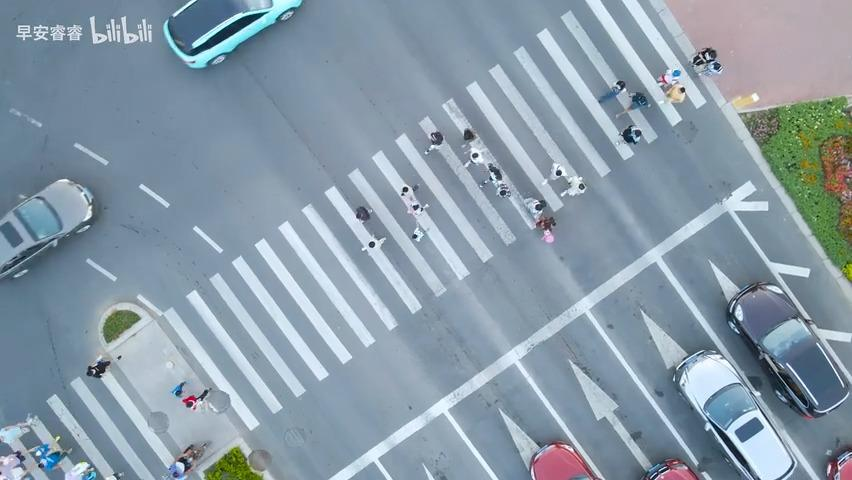Civilian: (29, 442, 72, 471), (0, 413, 35, 444), (615, 91, 651, 118), (177, 441, 207, 471), (167, 451, 196, 479), (0, 450, 26, 479), (540, 162, 571, 186), (181, 387, 210, 411), (597, 79, 625, 103), (478, 162, 503, 188), (559, 175, 587, 197), (690, 46, 716, 69), (535, 214, 556, 242), (64, 461, 96, 479), (175, 448, 197, 472), (86, 356, 110, 377), (655, 68, 681, 87), (618, 124, 642, 144), (424, 130, 443, 155), (360, 233, 386, 251), (663, 82, 685, 103), (523, 196, 546, 213), (463, 150, 483, 168), (494, 178, 511, 197), (355, 205, 372, 223), (411, 225, 429, 242), (704, 60, 723, 76), (171, 380, 189, 396), (399, 183, 419, 197), (408, 202, 429, 215), (81, 465, 96, 479), (429, 130, 443, 144), (611, 79, 625, 93), (463, 127, 476, 140)
